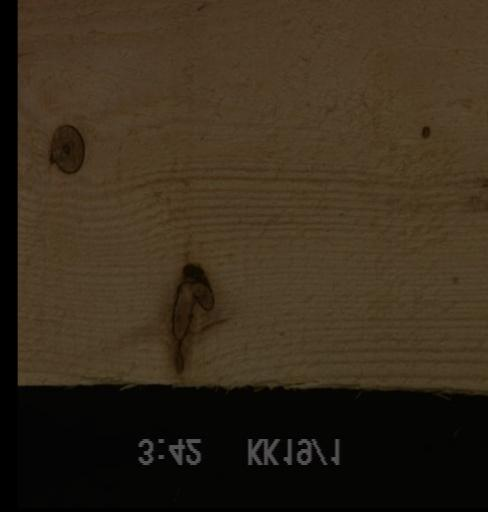dry_knot: (46, 123, 84, 175)
small_knot: (417, 124, 431, 141)
